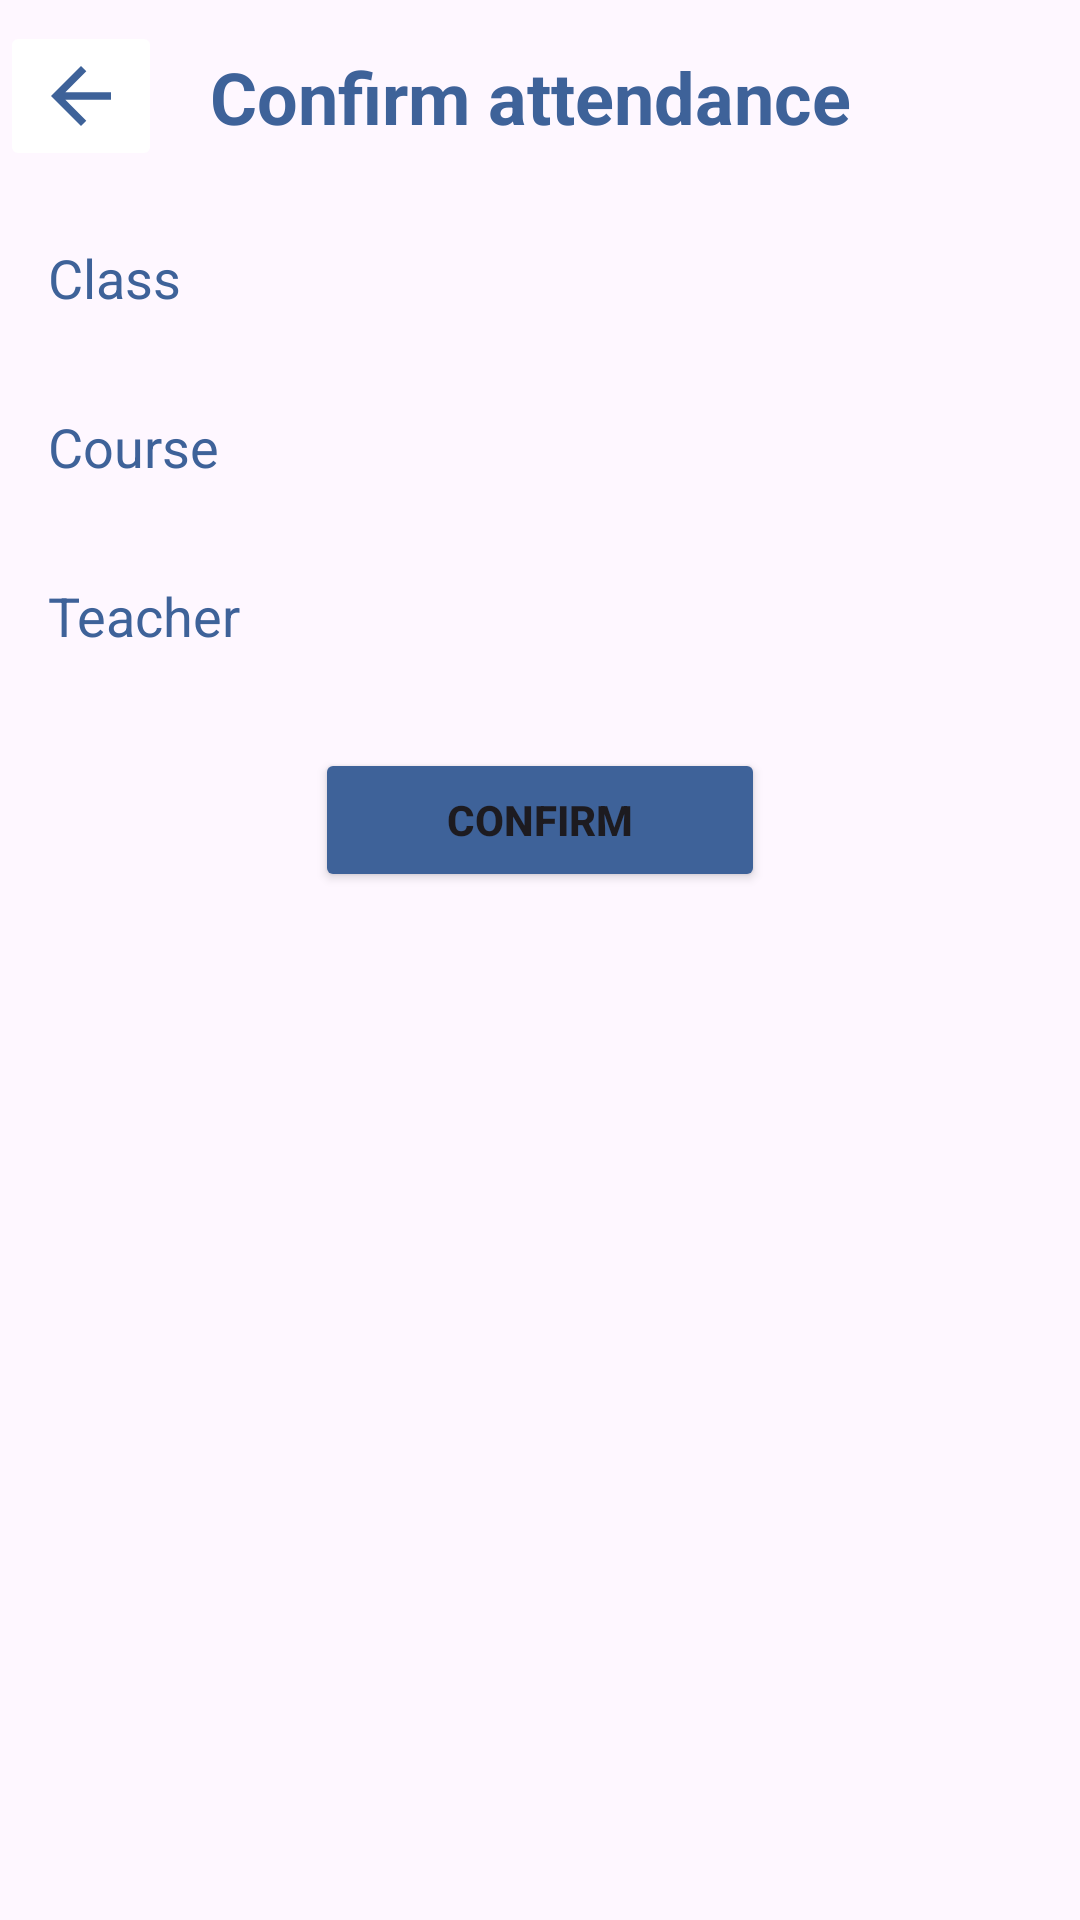

Named icons in this screenshot (1080x1920) and their centers, (x,y):
Back: (81,96)
